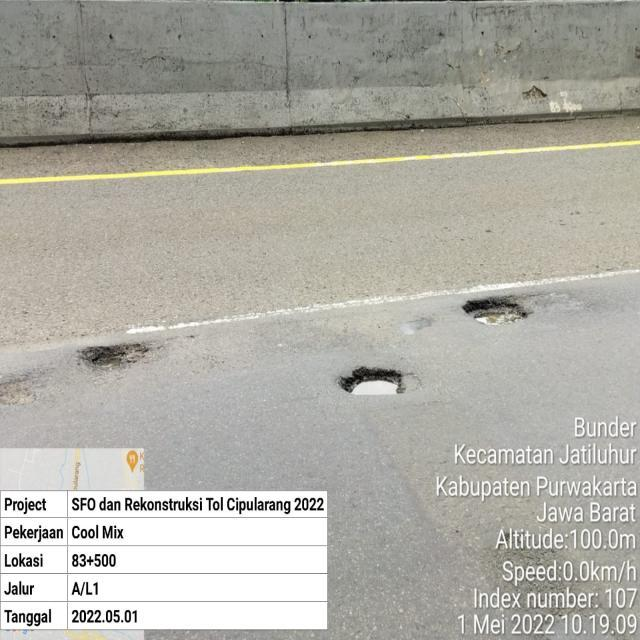Buraco: (74, 340, 156, 378), (458, 292, 538, 328), (335, 364, 412, 398), (0, 369, 39, 408)
